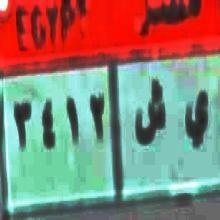1: (66, 87, 80, 149)
2: (84, 89, 110, 132)
3: (13, 96, 32, 152)
4: (36, 90, 60, 170)
sheen: (134, 78, 167, 156)
yaa: (178, 87, 211, 153)
